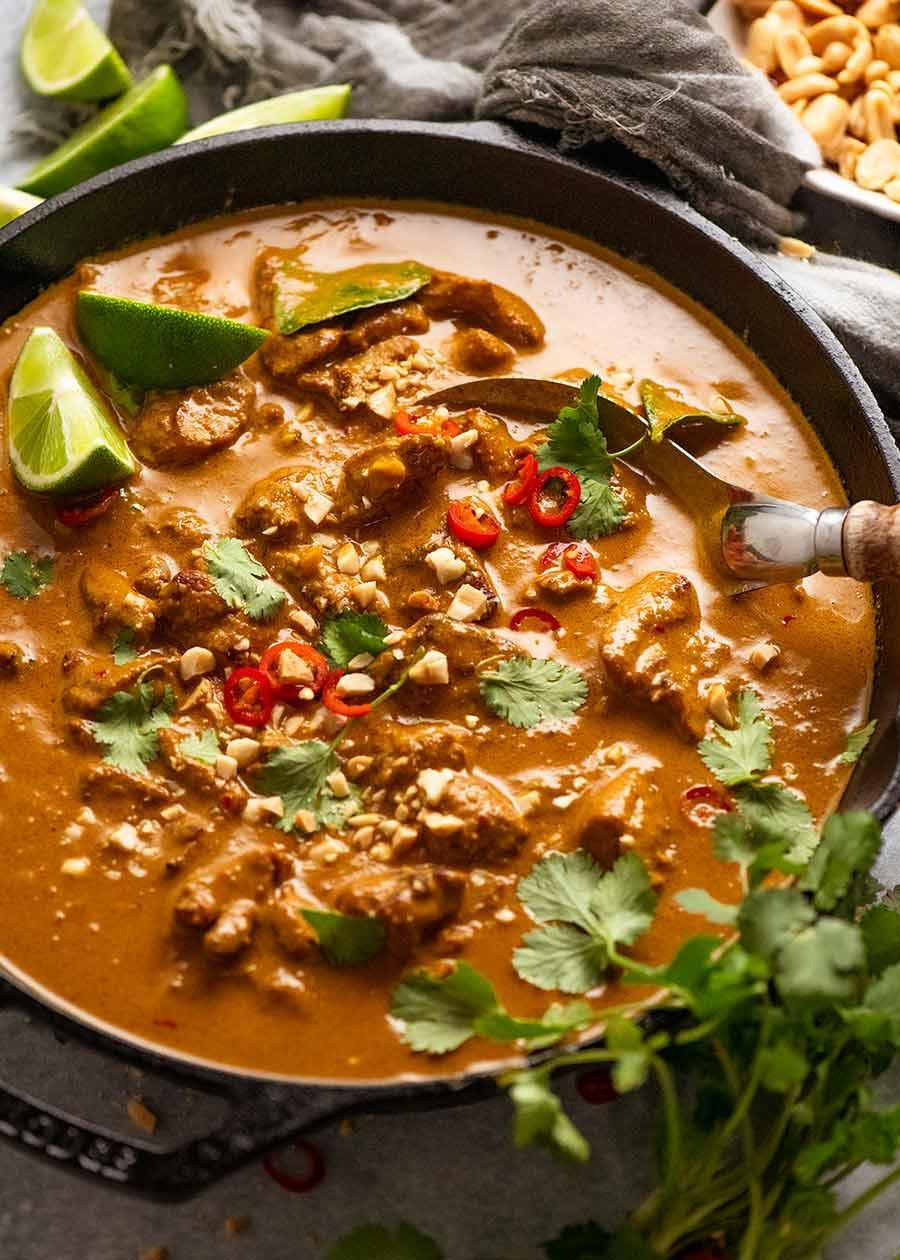chicken: (0, 168, 860, 1070)
